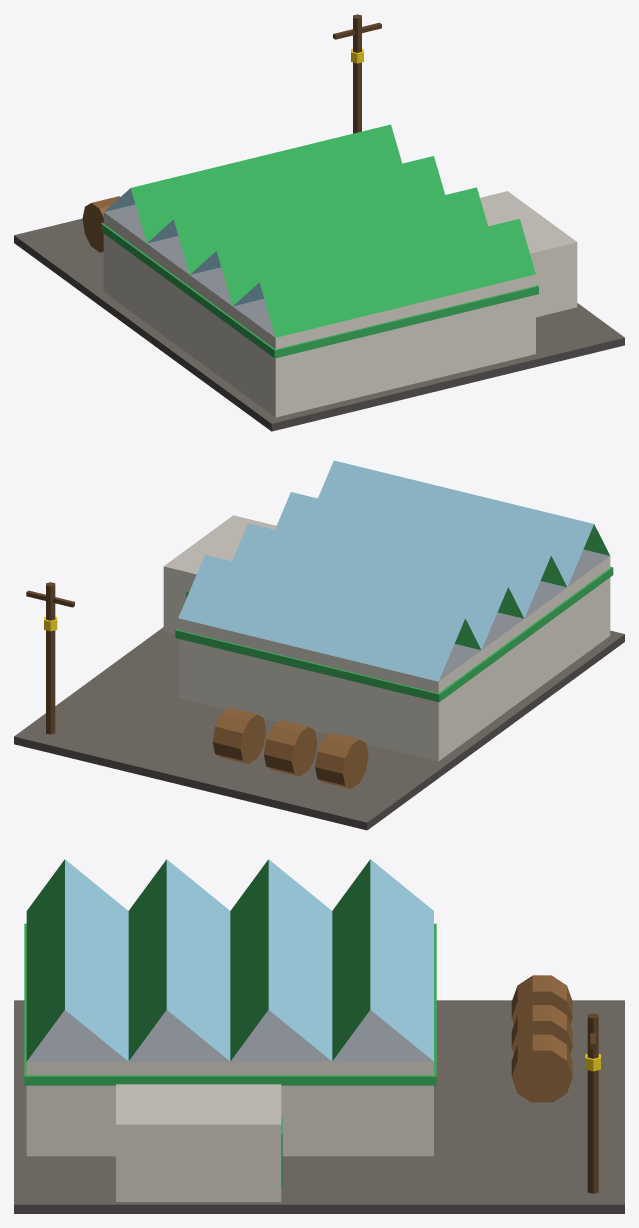
Rendered from electronics_works.glb.
3 renders of one model, top to bottom at view 1: azimuth 30°, elevation 25°; view 2: azimuth 150°, elevation 25°; view 3: azimuth 270°, elevation 25°, orthographic. The views are drawn at different scales.
Visible parts, largest first — view 1: electronics_works; view 2: electronics_works; view 3: electronics_works.
Boxes of the visible parts, x1,y1,x2,y2 form: electronics_works: (14,14,624,431); electronics_works: (14,460,624,830); electronics_works: (14,859,624,1213).
Bounding box in the file's own units: 3.8 × 1.6 × 4.8.
